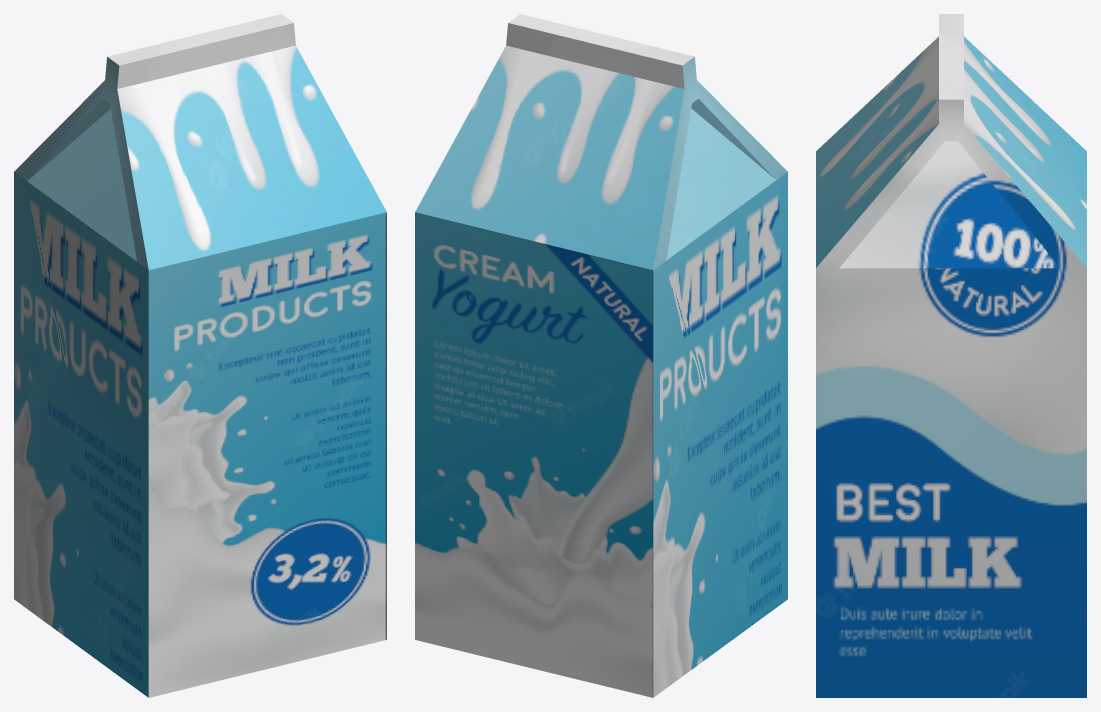
File: milk.fbx
3 views of the same model, side by side, from view 1: azimuth 30°, elevation 25°; view 2: azimuth 150°, elevation 25°; view 3: azimuth 270°, elevation 25° (orthographic).
Parts seen in each view (by area): view 1: Cube.053; view 2: Cube.053; view 3: Cube.053.
Part boxes in pixels (x1,y1,x2,y2): Cube.053: [14, 14, 386, 697]; Cube.053: [415, 14, 787, 697]; Cube.053: [816, 14, 1086, 697].
Size of the model in its own units: 46.7 by 109 by 45.76.
1 material, 1 textured.
